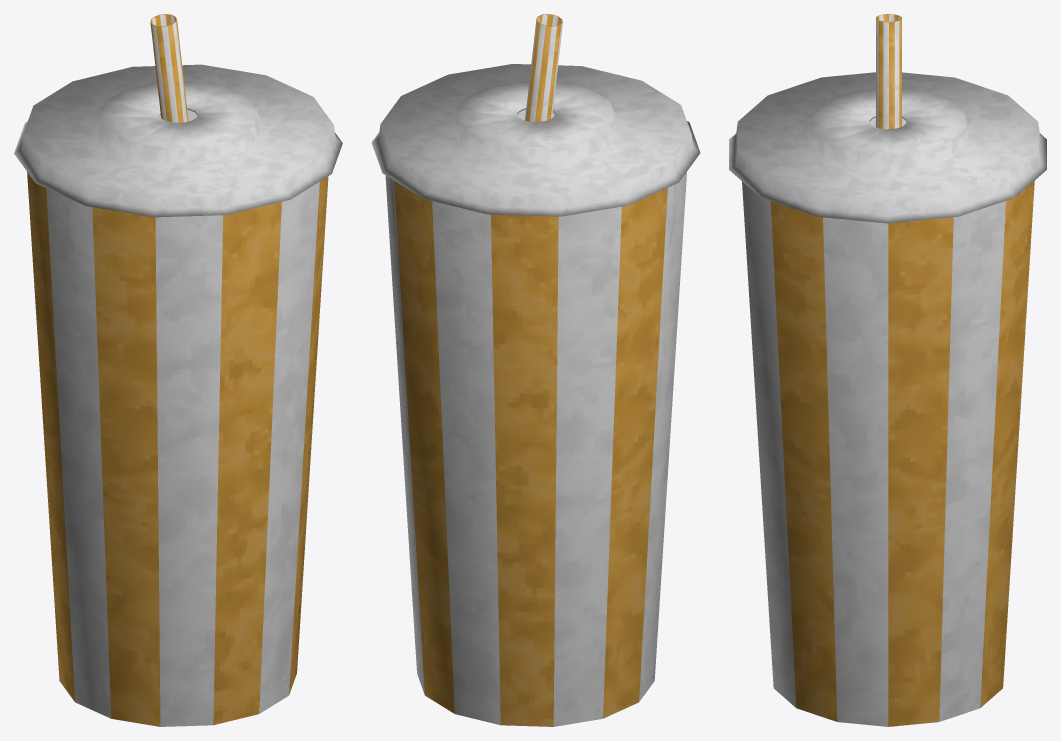
Rendered from DrinkCup.fbx.
3 renders of one model, left to right at view 1: azimuth 30°, elevation 25°; view 2: azimuth 150°, elevation 25°; view 3: azimuth 270°, elevation 25°, orthographic.
Visible parts, largest first — view 1: Base_Drink_01, Cover_Drink_01, Straw_Drink_01; view 2: Base_Drink_01, Cover_Drink_01, Straw_Drink_01; view 3: Base_Drink_01, Cover_Drink_01, Straw_Drink_01.
Part boxes in pixels (x1,y1,x2,y2): Base_Drink_01: (27, 110, 328, 726); Cover_Drink_01: (14, 64, 342, 217); Straw_Drink_01: (150, 14, 188, 122); Base_Drink_01: (385, 109, 686, 726); Cover_Drink_01: (371, 64, 700, 216); Straw_Drink_01: (525, 14, 562, 122); Base_Drink_01: (742, 117, 1034, 726); Cover_Drink_01: (729, 72, 1046, 223); Straw_Drink_01: (876, 14, 901, 129).
Size of the model in its own units: 2.18 by 4.81 by 2.12.
